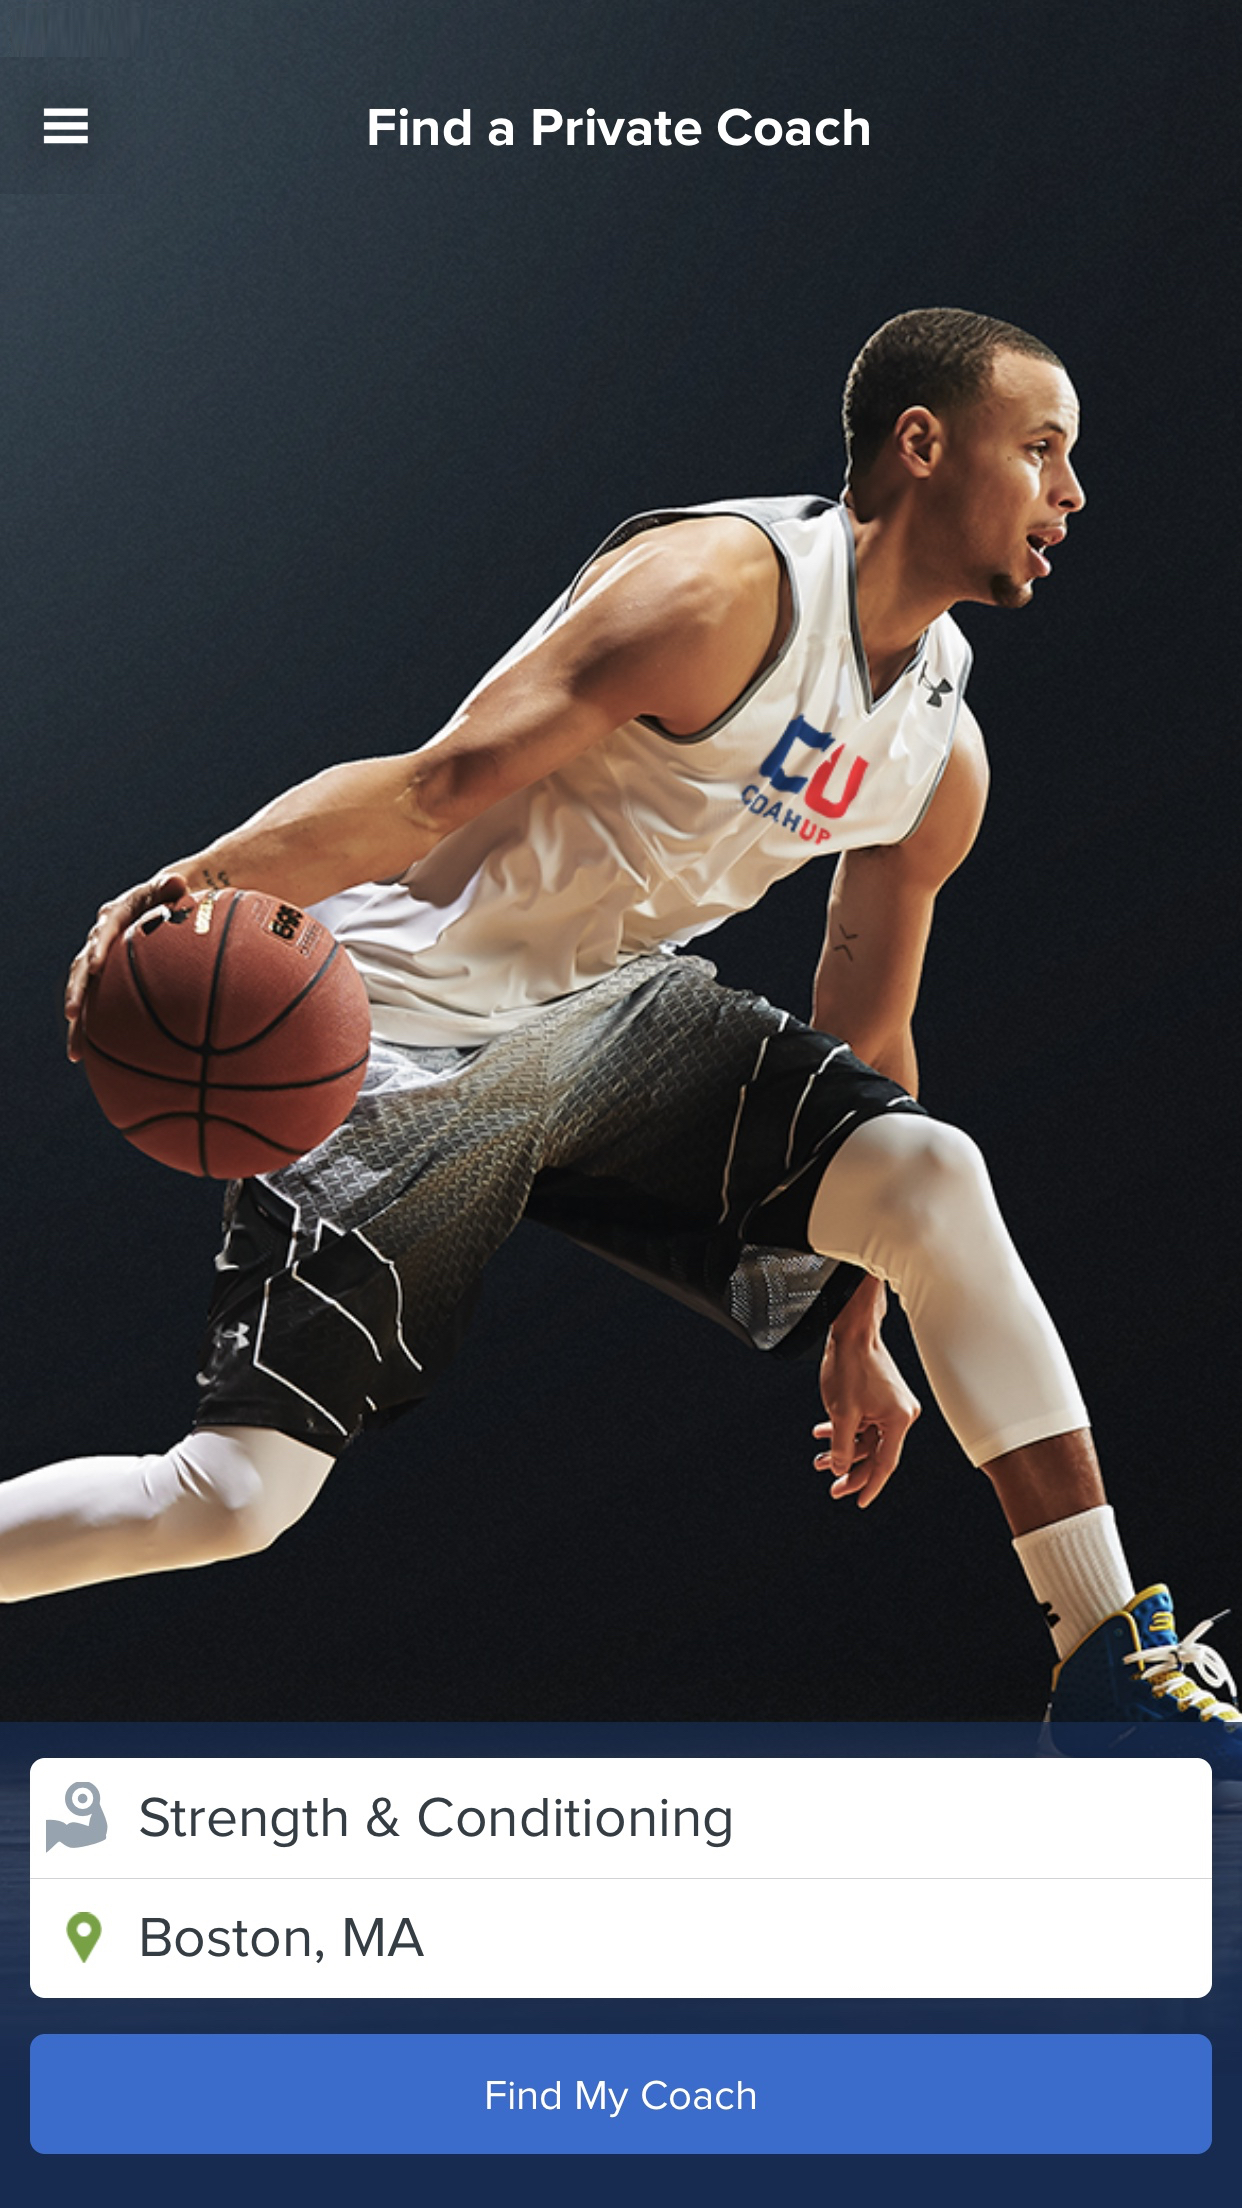Icon: (67, 1912, 105, 1964), (42, 108, 89, 146)
Image: (2, 2, 1242, 1723), (45, 1780, 109, 1853)
Text: (140, 1796, 732, 1849), (369, 108, 870, 149), (143, 1917, 426, 1964)
TextButton: (30, 2034, 1213, 2155)
